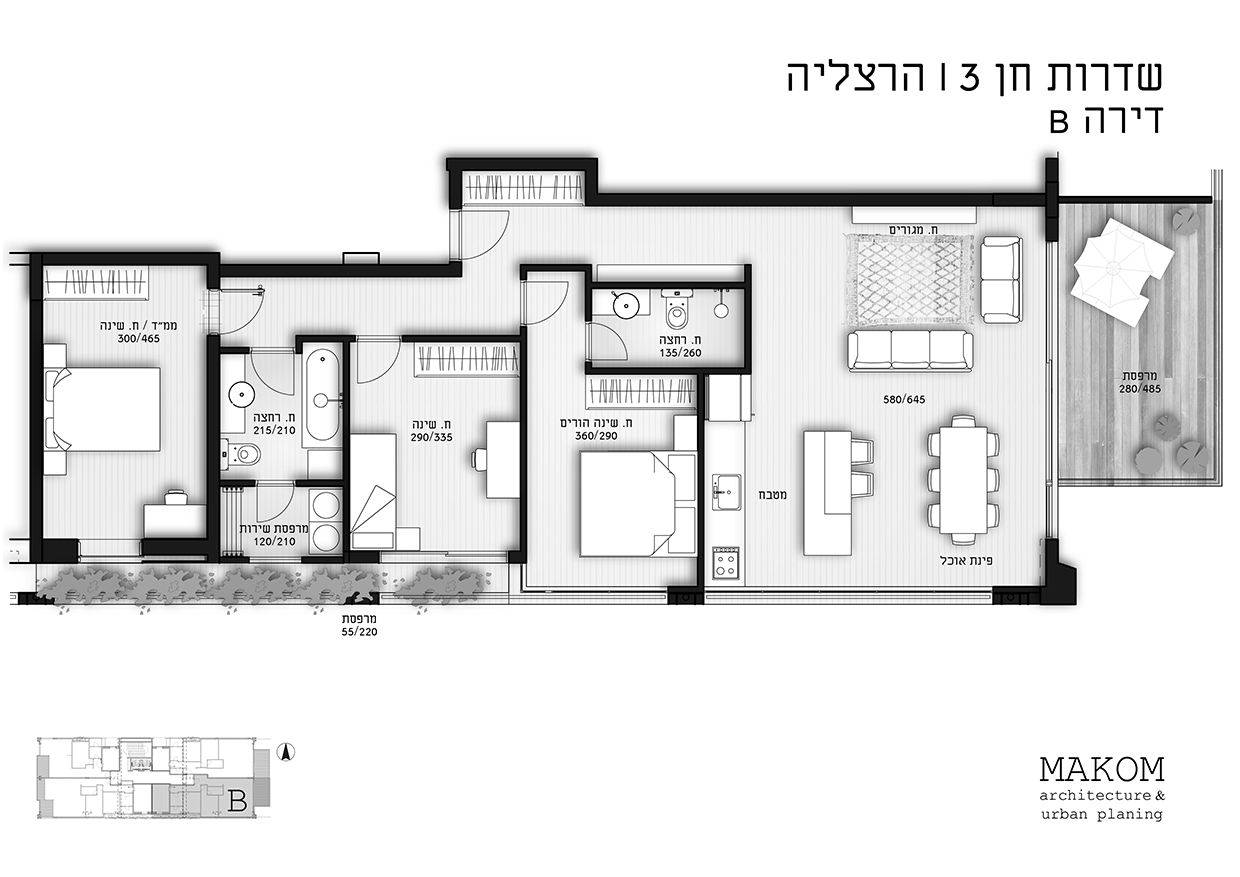window: (1045, 242, 1057, 537), (380, 551, 506, 564)
